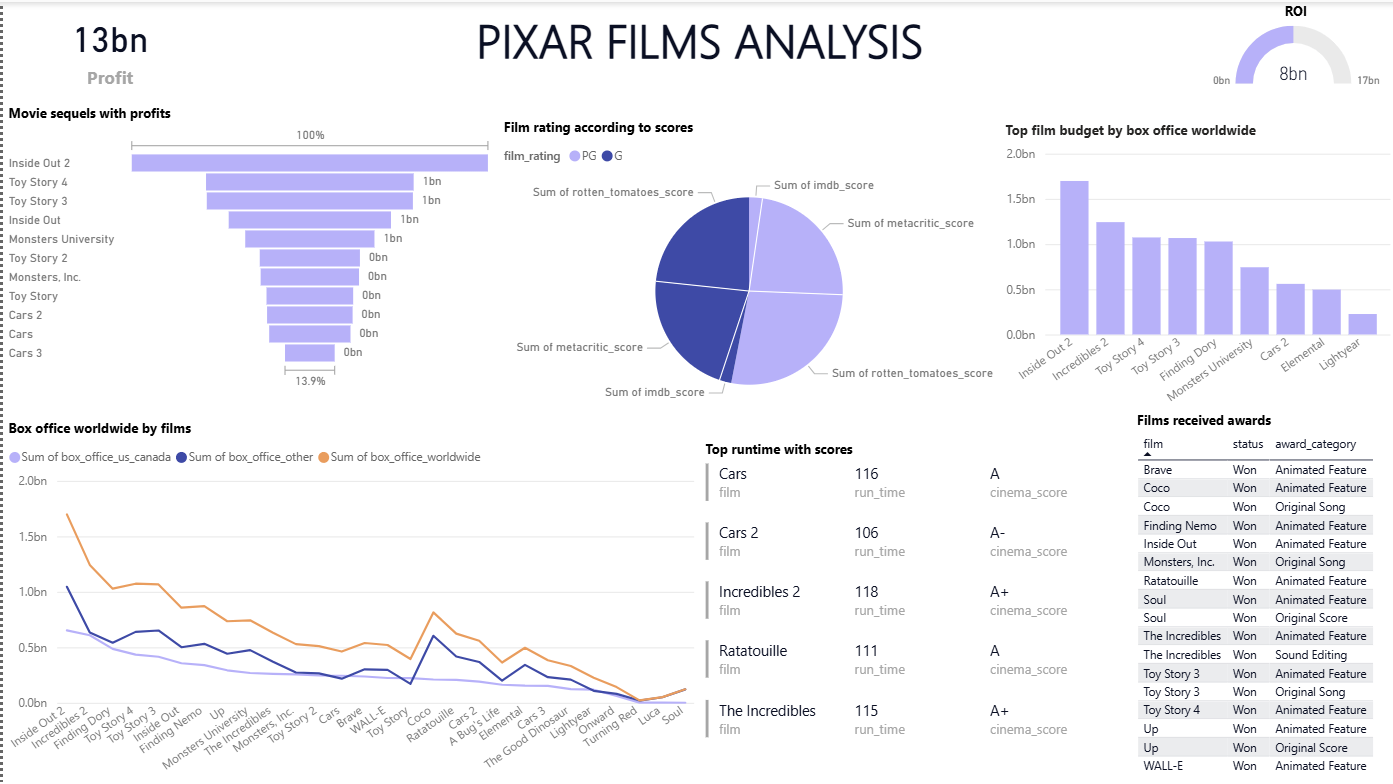

The page's visual inventory and layout, read from the dashboard file:
{"tool":"powerbi","page":{"name":"Page 1","canvas":[1280,720],"ordinal":0},"visuals":[{"type":"textbox","box":[342.4,0,595.7,69.6],"z":0},{"type":"funnel","title":"Movie sequels with profits","fields":{"Category":["pixar_films.film"],"Y":["academy.Profit"]},"box":[0,92.6,455.2,266.7],"z":1000},{"type":"columnChart","title":"Top film budget by box office worldwide","fields":{"Category":["pixar_films.film"],"Y":["Sum(box_office.box_office_worldwide)"]},"box":[915.2,108.5,364.8,273.6],"z":2000},{"type":"tableEx","title":"Films received awards","fields":{"Values":["academy.film","academy.status","academy.award_type"]},"box":[1036.6,375.4,242.8,345],"z":3000},{"type":"card","fields":{"Values":["academy.Profit"]},"box":[0,0,196.5,84.7],"z":4000},{"type":"pieChart","title":"Film rating according to scores","fields":{"Category":["pixar_films.film_rating"],"Y":["Sum(public_response.imdb_score)","Sum(public_response.metacritic_score)","Sum(public_response.rotten_tomatoes_score)"]},"box":[455.2,105.4,460,276.3],"z":5000},{"type":"gauge","fields":{"Y":["academy.ROI"]},"box":[1097.3,0,182.1,84.7],"z":6000},{"type":"lineChart","title":"Box office worldwide by films","fields":{"Y":["Sum(box_office.box_office_us_canada)","Sum(box_office.box_office_other)","Sum(box_office.box_office_worldwide)"],"Category":["pixar_films.film"]},"box":[0,382.1,640,338.1],"z":7000},{"type":"multiRowCard","title":"Top runtime with scores","fields":{"Values":["pixar_films.film","pixar_films.run_time","public_response.cinema_score"]},"box":[640.5,402.5,396.1,317.9],"z":7001}]}

Visuals, with their boxes in screenshot pixels (x1, y1, x2, y2), scaled from the page's 1280x720 canvas onto the 1393x784 screenshot:
textbox: box(373, 0, 1021, 76)
"Movie sequels with profits" funnel: box(0, 101, 495, 391)
"Top film budget by box office worldwide" columnChart: box(996, 118, 1392, 416)
"Films received awards" tableEx: box(1128, 409, 1392, 783)
card - academy.Profit: box(0, 0, 214, 92)
"Film rating according to scores" pieChart: box(495, 115, 996, 416)
gauge - academy.ROI: box(1194, 0, 1392, 92)
"Box office worldwide by films" lineChart: box(0, 416, 696, 783)
"Top runtime with scores" multiRowCard: box(697, 438, 1128, 783)
